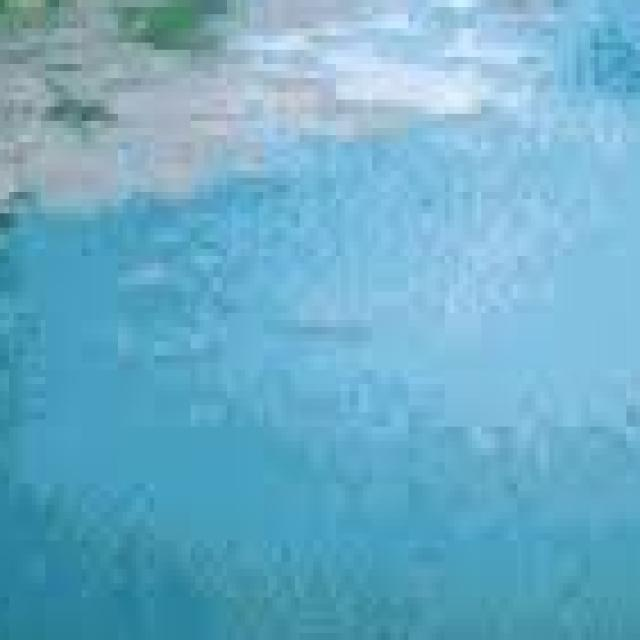-: (245, 156, 640, 640)
